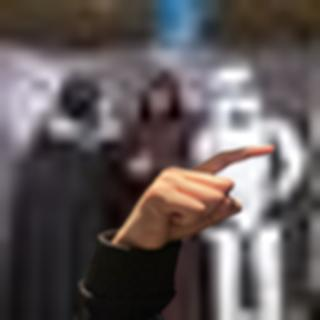WHY: (110, 135, 284, 250)
